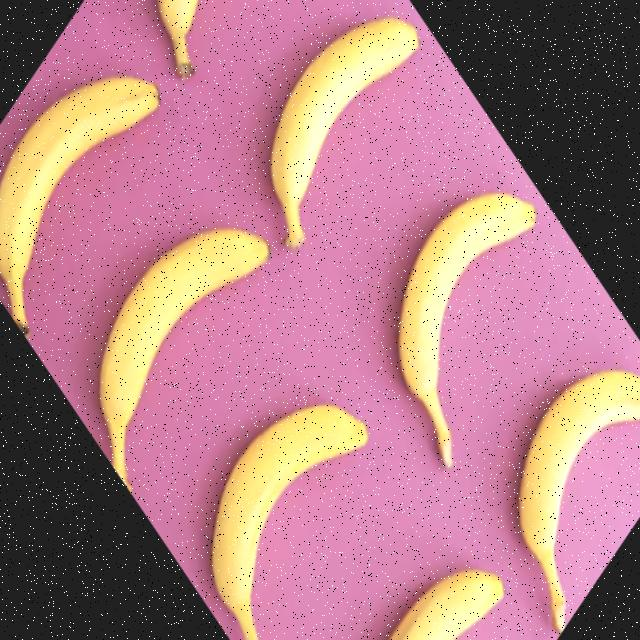god quality banana: (99, 228, 268, 488), (0, 77, 158, 333), (400, 191, 536, 468), (212, 406, 367, 639), (270, 16, 419, 248), (520, 371, 640, 632), (393, 572, 503, 639), (158, 0, 197, 77)
